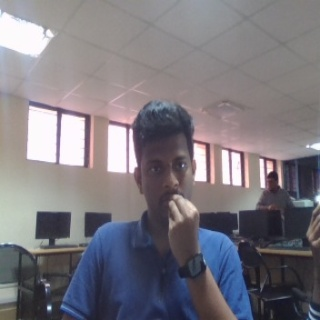Food: (165, 192, 200, 266)
